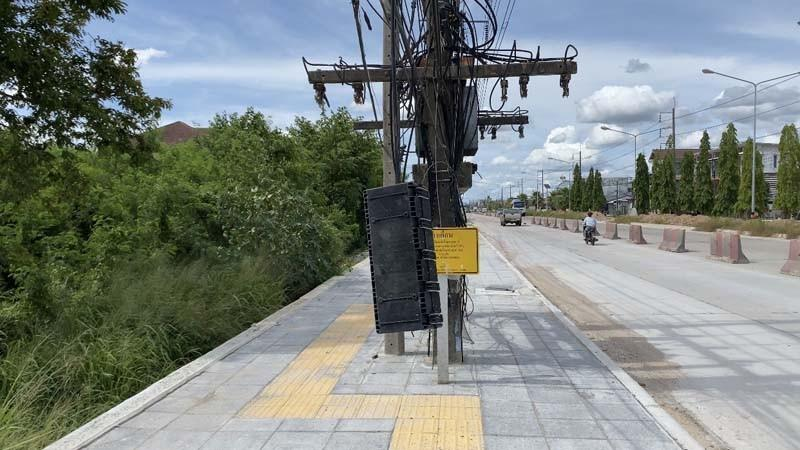wires: (383, 0, 498, 48)
